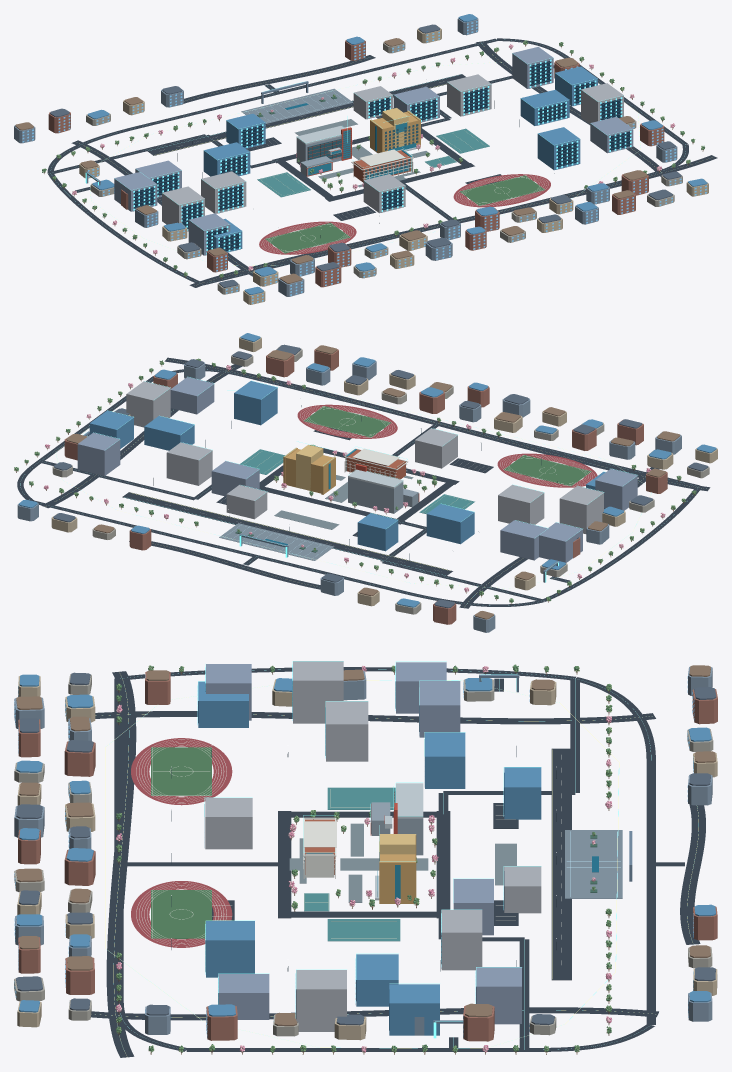
File: university-campus-demo.glb
The picture shows the model from 3 angles, top to bottom: view 1: azimuth 30°, elevation 25°; view 2: azimuth 150°, elevation 25°; view 3: azimuth 270°, elevation 25°; orthographic projection. The views are drawn at different scales.
Parts seen in each view (by area): view 1: SM_Campus_Network_MAT_Asphalt, SM_Neighborhood_Houses_MAT_Neighborhood_Brick, SM_Campus_Context_MAT_Campus_Concrete, SM_Campus_Context_MAT_Campus_Stone, SM_Campus_Context_MAT_Campus_Glass, SM_Neighborhood_Roads_MAT_Asphalt, SM_Neighborhood_Houses_MAT_Neighborhood_Blue, SM_Campus_Context_MAT_Campus_Cladding, SM_Neighborhood_Houses_MAT_Neighborhood_Cream, SM_Athletics_Track_Field_MAT_Ground_Lawn, SM_Athletics_Track_Field_MAT_Running_Track, SM_Neighborhood_Roofs_MAT_Neighborhood_Roof_Warm (+29 smaller); view 2: SM_Campus_Network_MAT_Asphalt, SM_Campus_Context_MAT_Campus_Concrete, SM_Campus_Context_MAT_Campus_Stone, SM_Neighborhood_Houses_MAT_Neighborhood_Brick, SM_Campus_Context_MAT_Campus_Cladding, SM_Neighborhood_Roads_MAT_Asphalt, SM_Neighborhood_Houses_MAT_Neighborhood_Blue, SM_Neighborhood_Houses_MAT_Neighborhood_Cream, SM_Athletics_Track_Field_MAT_Ground_Lawn, SM_Athletics_Track_Field_MAT_Running_Track, SM_Neighborhood_Roofs_MAT_Neighborhood_Roof, SM_Neighborhood_Roofs_MAT_Neighborhood_Roof_Warm (+21 smaller); view 3: SM_Campus_Network_MAT_Asphalt, SM_Campus_Context_MAT_Campus_Concrete, SM_Neighborhood_Roads_MAT_Asphalt, SM_Campus_Context_MAT_Campus_Cladding, SM_Neighborhood_Houses_MAT_Neighborhood_Brick, SM_Campus_Context_MAT_Campus_Stone, SM_Athletics_Track_Field_MAT_Ground_Lawn, SM_Neighborhood_Houses_MAT_Neighborhood_Blue, SM_Neighborhood_Roofs_MAT_Neighborhood_Roof_Warm, SM_Athletics_Track_Field_MAT_Running_Track, SM_Neighborhood_Houses_MAT_Neighborhood_Cream, SM_Site_MAT_Asphalt (+25 smaller).
Part boxes in pixels (left/top/right/bottom): SM_Campus_Network_MAT_Asphalt: left=47, top=38, right=688, bottom=285; SM_Neighborhood_Houses_MAT_Neighborhood_Brick: left=48, top=40, right=664, bottom=287; SM_Campus_Context_MAT_Campus_Concrete: left=162, top=83, right=623, bottom=231; SM_Campus_Context_MAT_Campus_Stone: left=114, top=46, right=633, bottom=255; SM_Campus_Context_MAT_Campus_Glass: left=134, top=61, right=630, bottom=251; SM_Neighborhood_Roads_MAT_Asphalt: left=71, top=41, right=717, bottom=287; SM_Neighborhood_Houses_MAT_Neighborhood_Blue: left=14, top=17, right=677, bottom=296; SM_Campus_Context_MAT_Campus_Cladding: left=213, top=66, right=597, bottom=252; SM_Neighborhood_Houses_MAT_Neighborhood_Cream: left=79, top=26, right=708, bottom=304; SM_Athletics_Track_Field_MAT_Ground_Lawn: left=265, top=175, right=544, bottom=253; SM_Athletics_Track_Field_MAT_Running_Track: left=259, top=174, right=550, bottom=254; SM_Neighborhood_Roofs_MAT_Neighborhood_Roof_Warm: left=15, top=38, right=647, bottom=283; SM_Campus_Network_MAT_Asphalt: left=17, top=368, right=701, bottom=606; SM_Campus_Context_MAT_Campus_Concrete: left=126, top=381, right=603, bottom=533; SM_Campus_Context_MAT_Campus_Stone: left=77, top=377, right=637, bottom=562; SM_Neighborhood_Houses_MAT_Neighborhood_Brick: left=64, top=346, right=667, bottom=624; SM_Campus_Context_MAT_Campus_Cladding: left=89, top=381, right=605, bottom=551; SM_Neighborhood_Roads_MAT_Asphalt: left=41, top=357, right=710, bottom=608; SM_Neighborhood_Houses_MAT_Neighborhood_Blue: left=17, top=359, right=681, bottom=632; SM_Neighborhood_Houses_MAT_Neighborhood_Cream: left=51, top=337, right=717, bottom=606; SM_Athletics_Track_Field_MAT_Ground_Lawn: left=304, top=406, right=591, bottom=486; SM_Athletics_Track_Field_MAT_Running_Track: left=297, top=404, right=597, bottom=487; SM_Neighborhood_Roofs_MAT_Neighborhood_Roof: left=53, top=344, right=708, bottom=608; SM_Neighborhood_Roofs_MAT_Neighborhood_Roof_Warm: left=66, top=345, right=680, bottom=619; SM_Campus_Network_MAT_Asphalt: left=114, top=667, right=684, bottom=1051; SM_Campus_Context_MAT_Campus_Concrete: left=205, top=661, right=541, bottom=1031; SM_Neighborhood_Roads_MAT_Asphalt: left=65, top=671, right=705, bottom=1057; SM_Campus_Context_MAT_Campus_Cladding: left=198, top=681, right=541, bottom=1035; SM_Neighborhood_Houses_MAT_Neighborhood_Brick: left=18, top=671, right=717, bottom=1041; SM_Campus_Context_MAT_Campus_Stone: left=206, top=662, right=521, bottom=1024; SM_Athletics_Track_Field_MAT_Ground_Lawn: left=151, top=747, right=211, bottom=938; SM_Neighborhood_Houses_MAT_Neighborhood_Blue: left=14, top=667, right=712, bottom=1035; SM_Neighborhood_Roofs_MAT_Neighborhood_Roof_Warm: left=16, top=665, right=715, bottom=1026; SM_Athletics_Track_Field_MAT_Running_Track: left=131, top=738, right=232, bottom=947; SM_Neighborhood_Houses_MAT_Neighborhood_Cream: left=17, top=676, right=717, bottom=1040; SM_Site_MAT_Asphalt: left=278, top=811, right=450, bottom=918.
Bounding box in the file's own units: 547 × 43.8 × 417.
